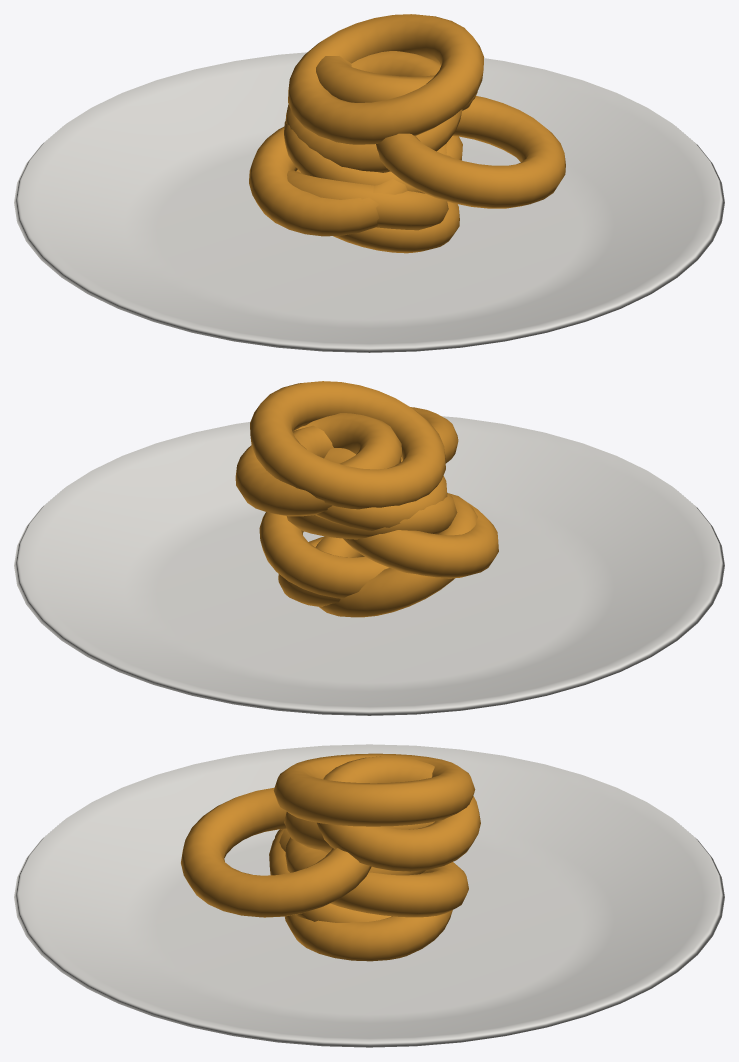
File: aneis-cebola.glb
3 views of the same model, one above another, from view 1: azimuth 30°, elevation 25°; view 2: azimuth 150°, elevation 25°; view 3: azimuth 270°, elevation 25° (orthographic).
Visible parts, largest first — view 1: aneis-cebola; view 2: aneis-cebola; view 3: aneis-cebola.
Part boxes in pixels (box(x1,y1,x2,y2)): aneis-cebola: box(14, 14, 724, 352); aneis-cebola: box(14, 381, 724, 715); aneis-cebola: box(14, 744, 724, 1047).
Size of the model in its own units: 0.26 by 0.0821 by 0.26.
